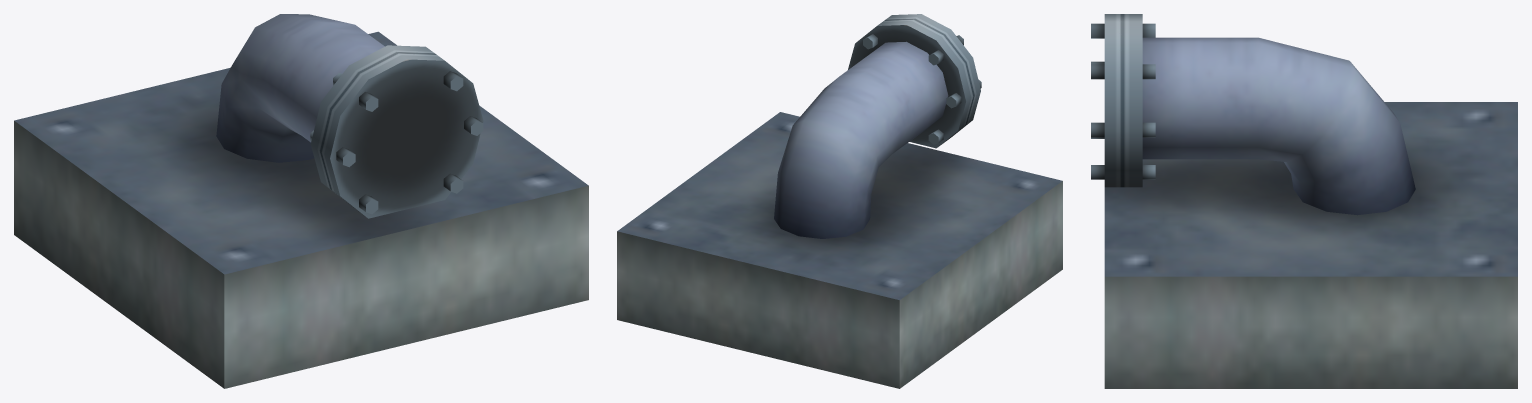
File: ind_tile_pipe_floor.obj
3 views of the same model, side by side, from view 1: azimuth 30°, elevation 25°; view 2: azimuth 150°, elevation 25°; view 3: azimuth 270°, elevation 25° (orthographic). The views are drawn at different scales.
Parts seen in each view (by area): view 1: tile_boundary01; view 2: tile_boundary01; view 3: tile_boundary01.
Part boxes in pixels (<box>): tile_boundary01: <box>14,14,588,388</box>; tile_boundary01: <box>617,14,1062,388</box>; tile_boundary01: <box>1091,14,1517,388</box>.
Bounding box in the file's own units: 1 × 0.7476 × 1.03.
Materials: 1 (1 with a texture image).
